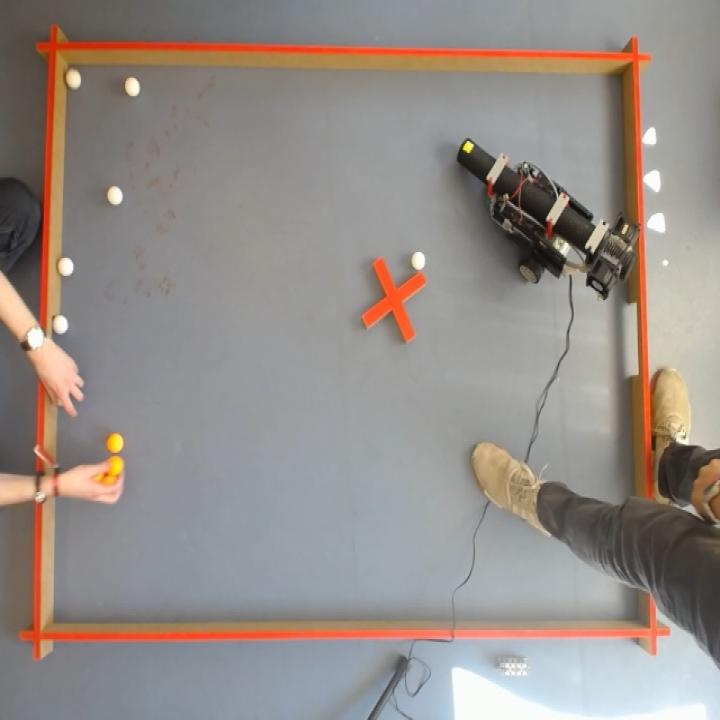orange: (105, 432, 124, 454), (109, 456, 124, 474)
robot: (457, 138, 637, 302)
robot-front: (457, 139, 493, 181)
white: (63, 66, 84, 93), (122, 75, 142, 102), (105, 184, 125, 209), (57, 255, 76, 279), (52, 314, 68, 336), (412, 252, 425, 270)
